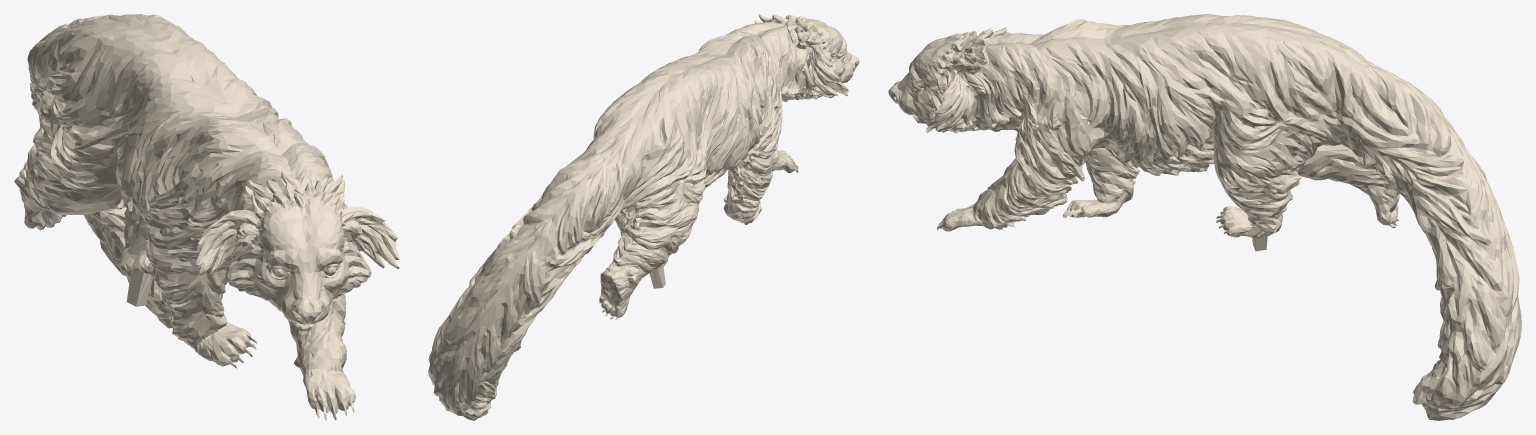
Rendered from animal_binturong_v1.glb.
The picture shows the model from 3 angles, left to right: view 1: azimuth 30°, elevation 25°; view 2: azimuth 150°, elevation 25°; view 3: azimuth 270°, elevation 25°; orthographic projection. The views are drawn at different scales.
Visible parts, largest first — view 1: binturong-walking-1-24; view 2: binturong-walking-1-24; view 3: binturong-walking-1-24.
Part boxes in pixels (x1,y1,x2,y2): binturong-walking-1-24: (14, 14, 399, 420); binturong-walking-1-24: (428, 14, 859, 420); binturong-walking-1-24: (888, 14, 1521, 420).
Size of the model in its own units: 25.66 by 35.04 by 58.57.
